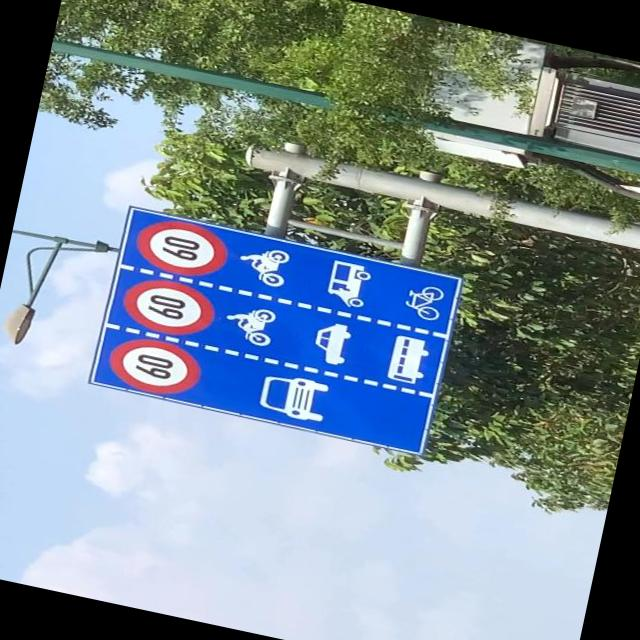P-127c: (93, 208, 460, 450)
